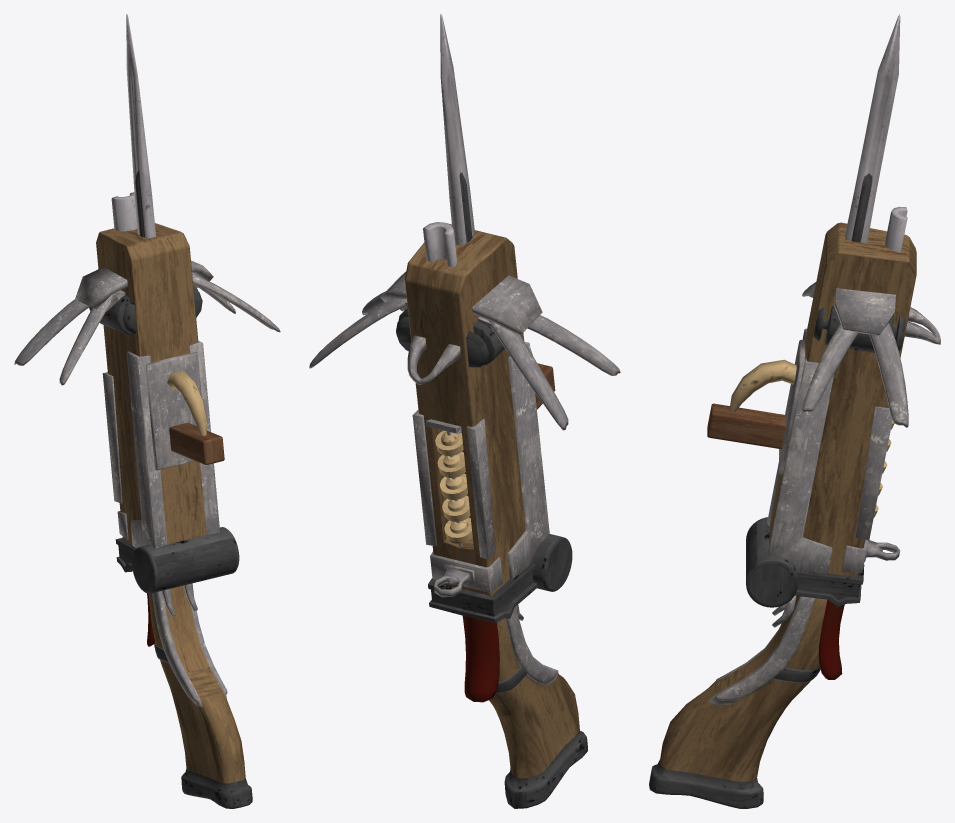
Rendered from bianca_shana.glb.
3 renders of one model, left to right at view 1: azimuth 30°, elevation 25°; view 2: azimuth 150°, elevation 25°; view 3: azimuth 270°, elevation 25°, orthographic. The views are drawn at different scales.
Parts seen in each view (by area): view 1: Cube; view 2: Cube; view 3: Cube.
Boxes of the visible parts, x1,y1,x2,y2 form: Cube: [14, 14, 280, 808]; Cube: [309, 14, 620, 808]; Cube: [649, 14, 940, 808].
Bounding box in the file's own units: 0.2681 × 0.8483 × 0.2841.
7 materials, 7 textured.
